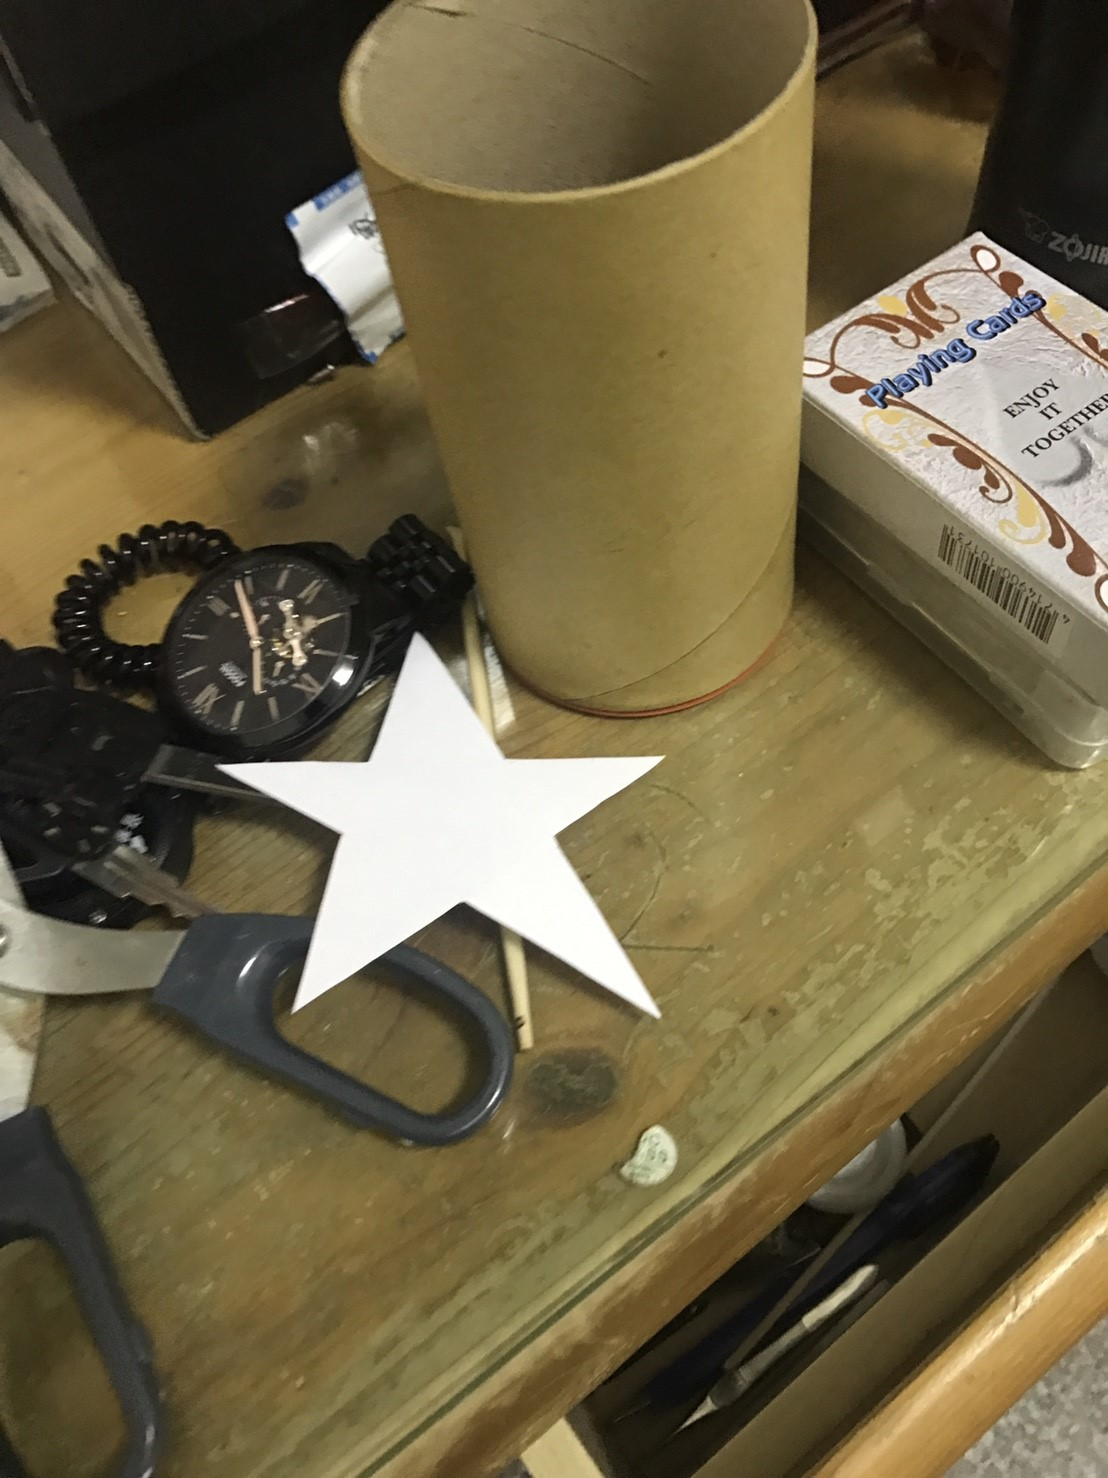star: (212, 607, 720, 1063)
